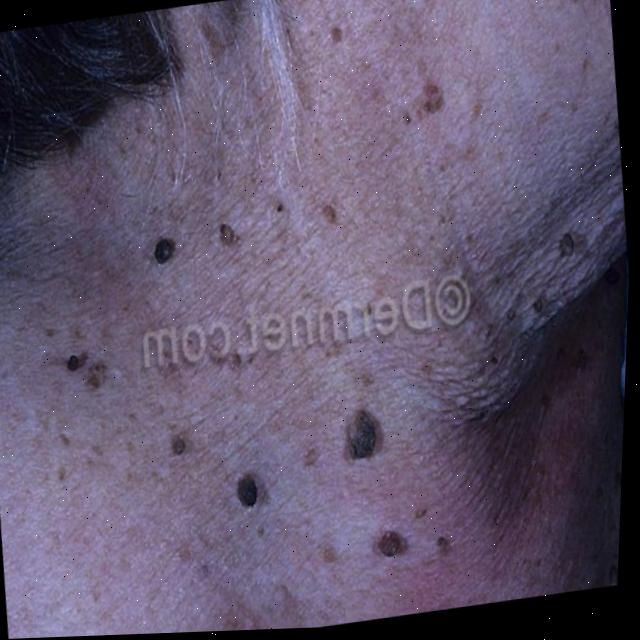Eczema: (29, 45, 559, 638)
